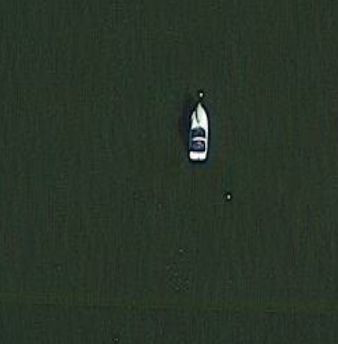boat: (185, 102, 213, 163)
